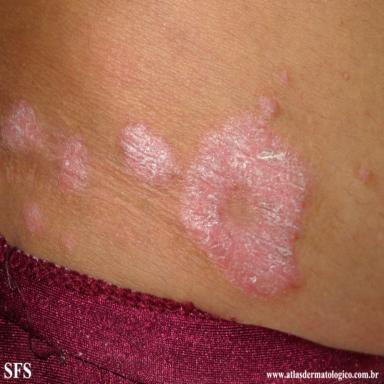Psoriasis: (119, 113, 310, 296), (1, 100, 44, 151), (58, 141, 88, 191), (23, 202, 45, 236), (259, 95, 277, 118), (59, 232, 77, 254), (358, 165, 371, 183)
